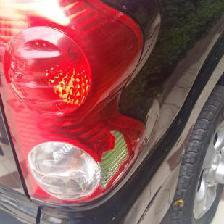tail_lamp: (4, 4, 155, 202)
